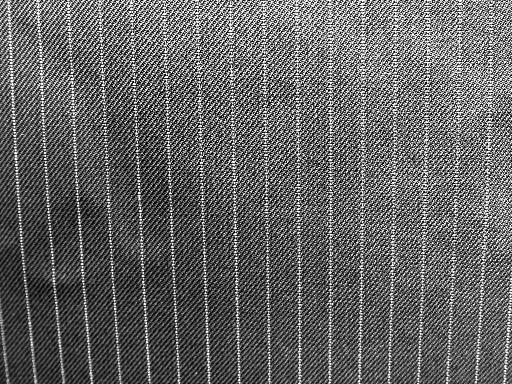fabric_perfect: (2, 3, 510, 378)
